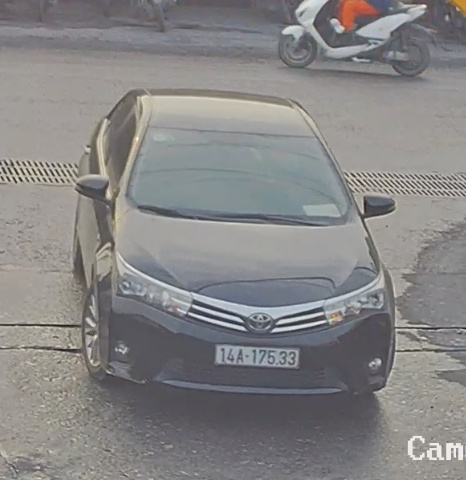vehicle plate: (211, 339, 307, 369)
